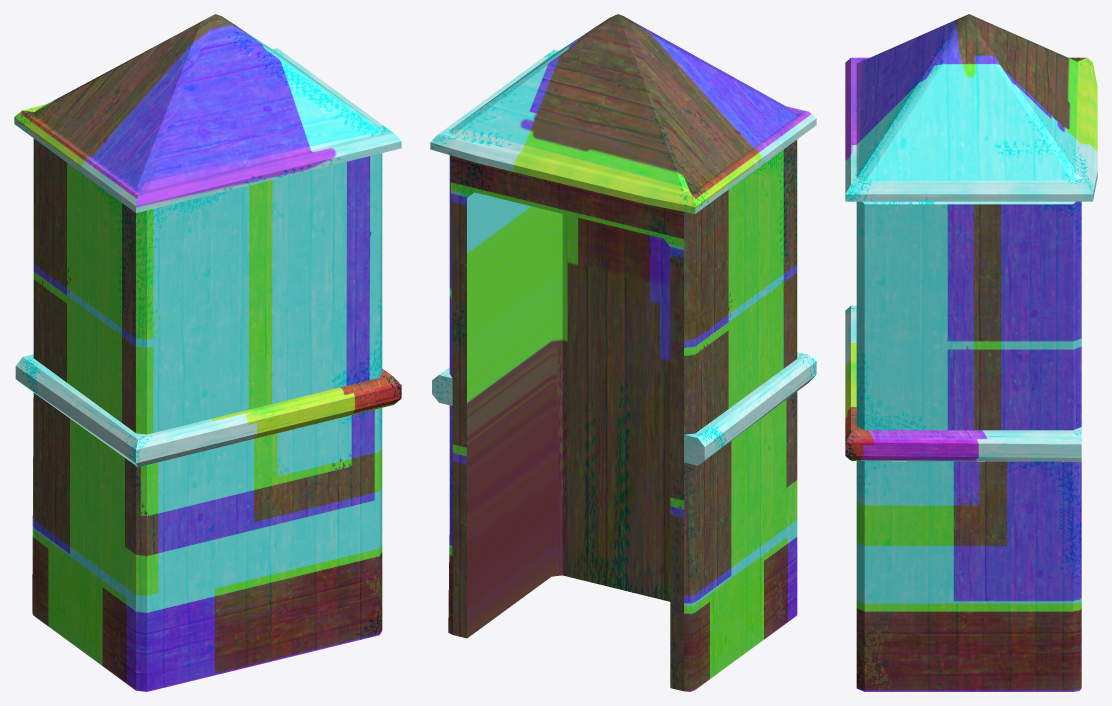
Rendered from Guard Post.FBX.
3 renders of one model, left to right at view 1: azimuth 30°, elevation 25°; view 2: azimuth 150°, elevation 25°; view 3: azimuth 270°, elevation 25°, orthographic.
Parts seen in each view (by area): view 1: Box001; view 2: Box001; view 3: Box001.
Part boxes in pixels (box(x1,y1,x2,y2)): Box001: box(14, 14, 401, 691); Box001: box(430, 14, 816, 691); Box001: box(845, 14, 1097, 691).
Size of the model in its own units: 39.37 by 83.64 by 30.92.
